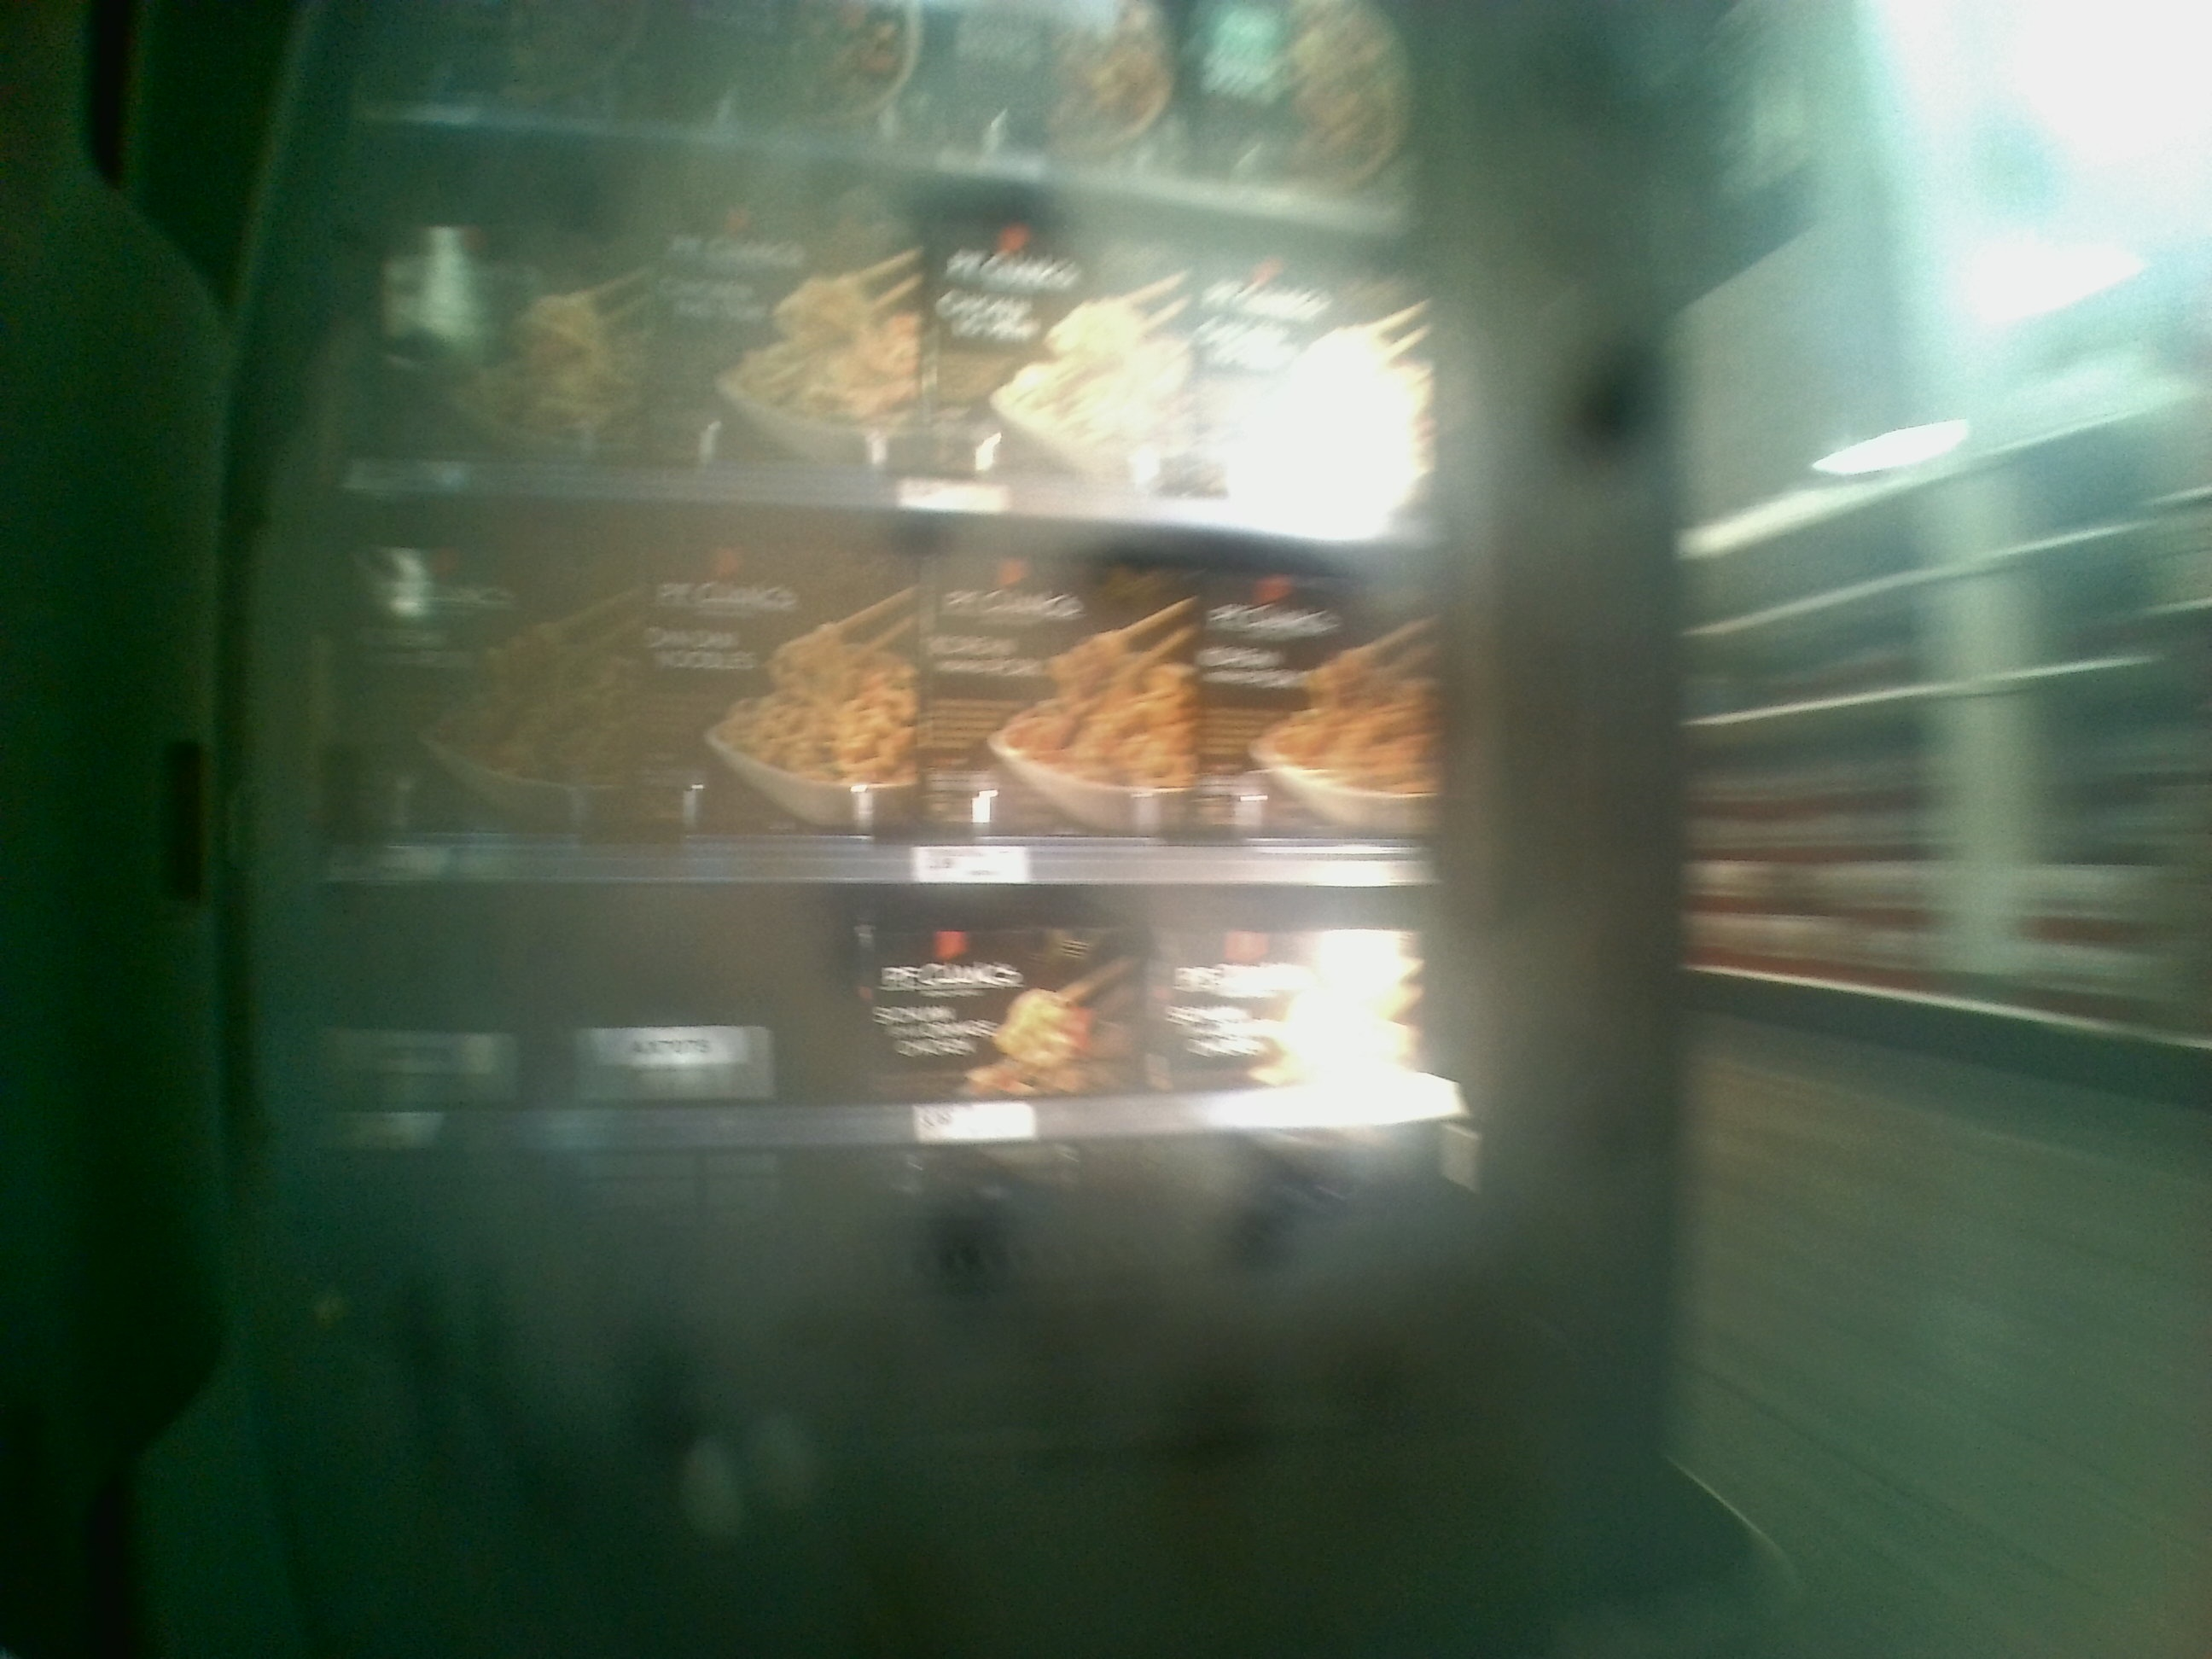shelf: (291, 476, 1446, 897), (296, 892, 1447, 1251)
